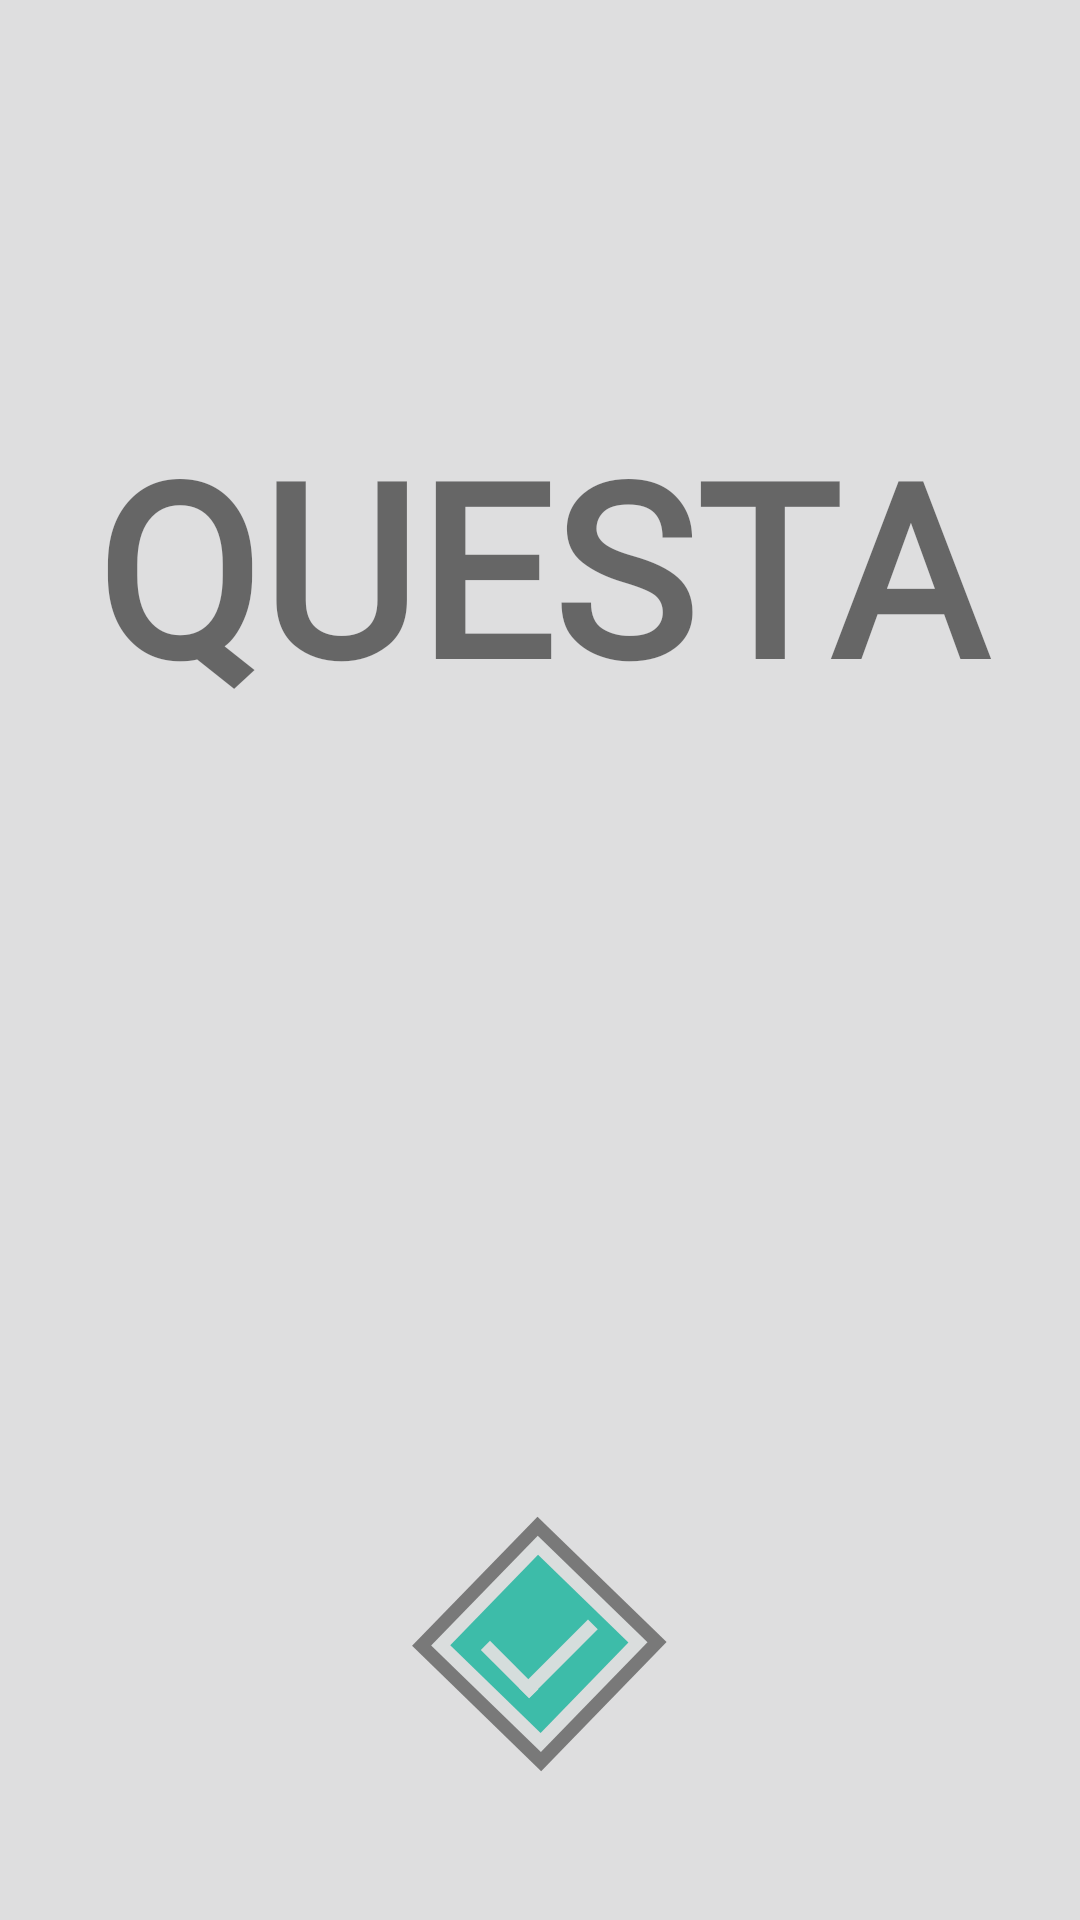

Icon bounding boxes for this 1080 × 1920 phone screenshot, format (x1, y1, x2, y2):
checkmark login: (412, 1517, 666, 1771)
